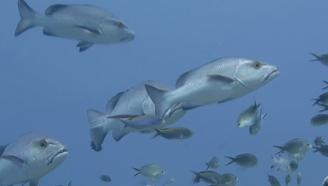Lutjanidae -Snappers-: (142, 55, 273, 135), (15, 0, 138, 55), (0, 120, 75, 186)
